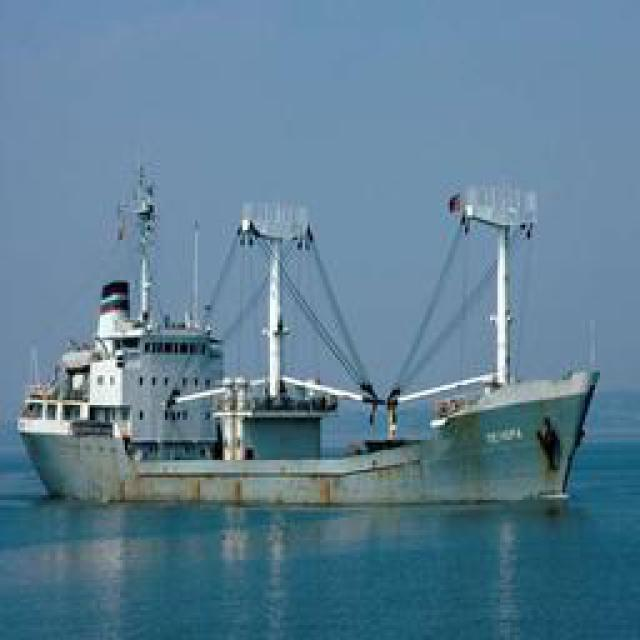Ship: (21, 165, 616, 505)
